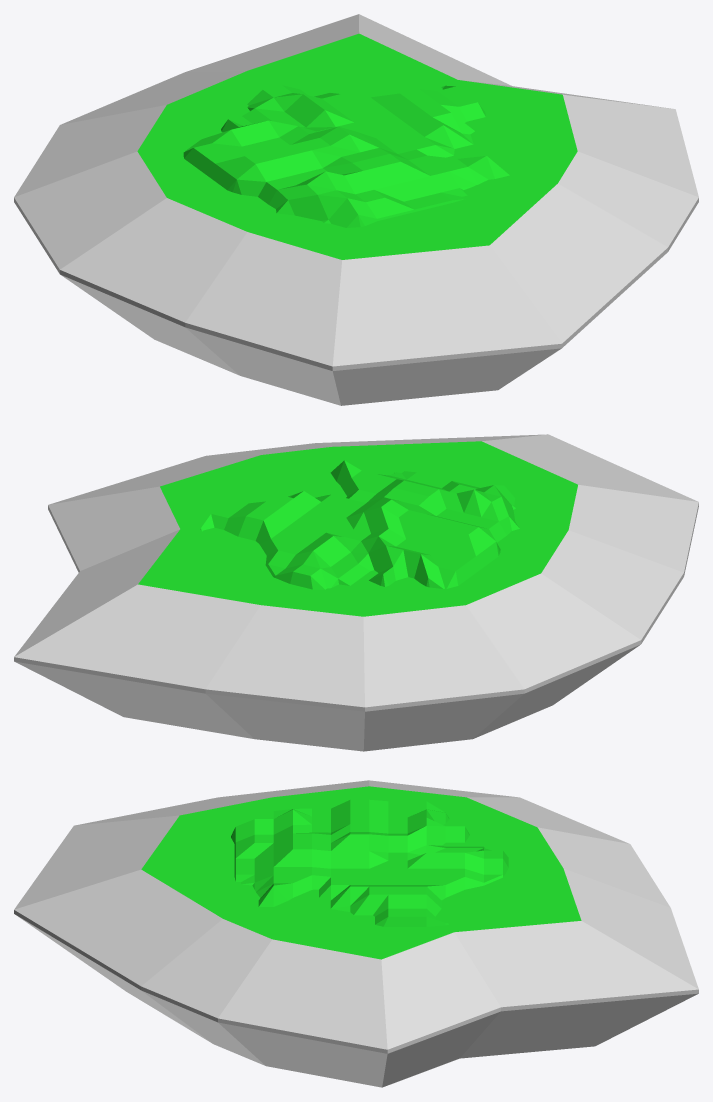
Rendered from Island.fbx.
3 views of the same model, one above another, from view 1: azimuth 30°, elevation 25°; view 2: azimuth 150°, elevation 25°; view 3: azimuth 270°, elevation 25° (orthographic). The views are drawn at different scales.
Parts seen in each view (by area): view 1: Cube; view 2: Cube; view 3: Cube.
Boxes of the visible parts, left/top/right/bottom form: Cube: left=14, top=14, right=698, bottom=405; Cube: left=14, top=434, right=698, bottom=751; Cube: left=14, top=780, right=698, bottom=1087.
Bounding box in the file's own units: 41373 × 10650 × 44443.
